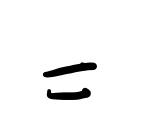eqv: (40, 58, 101, 102)
